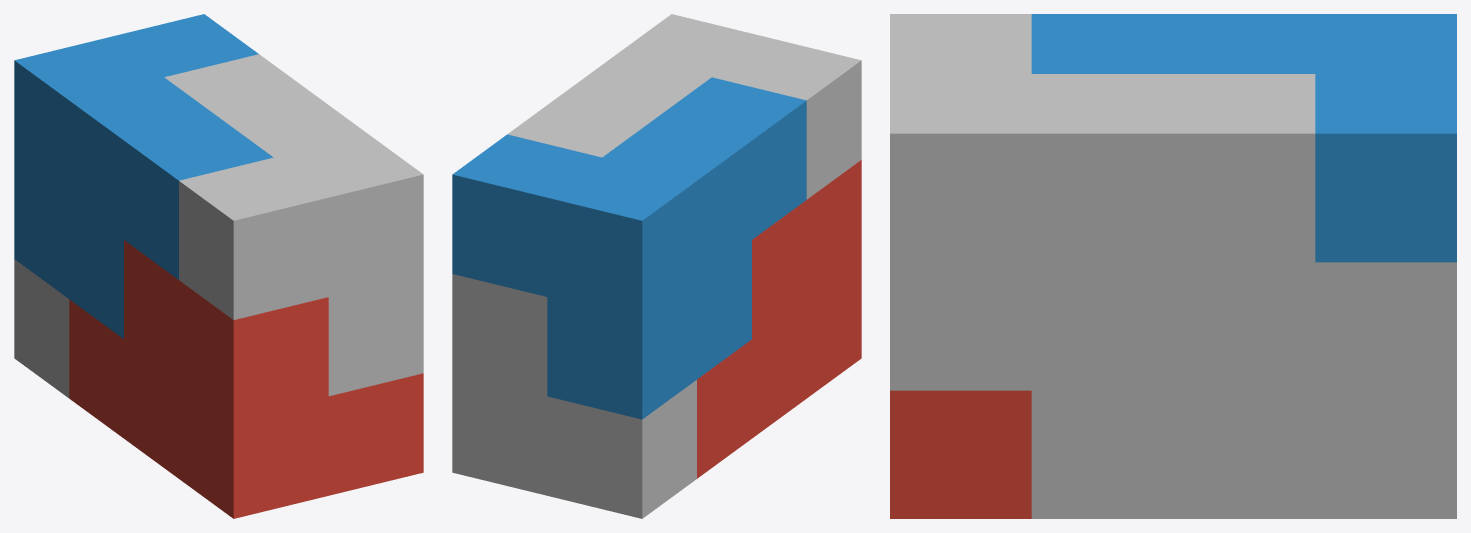
Rendered from tiling.obj.
3 renders of one model, left to right at view 1: azimuth 30°, elevation 25°; view 2: azimuth 150°, elevation 25°; view 3: azimuth 270°, elevation 25°, orthographic. The views are drawn at different scales.
Visible parts, largest first — view 1: copy_1, copy_4, copy_2, copy_3; view 2: copy_2, copy_3, copy_1, copy_4; view 3: copy_4, copy_3, copy_2, copy_1.
Part boxes in pixels (x1,y1,x2,y2): copy_1: [69, 240, 423, 518]; copy_4: [164, 54, 423, 396]; copy_2: [14, 14, 273, 338]; copy_3: [14, 259, 69, 398]; copy_2: [452, 77, 806, 419]; copy_3: [452, 274, 696, 518]; copy_1: [697, 160, 861, 478]; copy_4: [507, 14, 861, 199]; copy_4: [890, 14, 1315, 390]; copy_3: [1031, 262, 1456, 518]; copy_2: [1031, 14, 1456, 262]; copy_1: [890, 390, 1031, 518].
Bounding box in the file's own units: 2 × 3 × 4.
